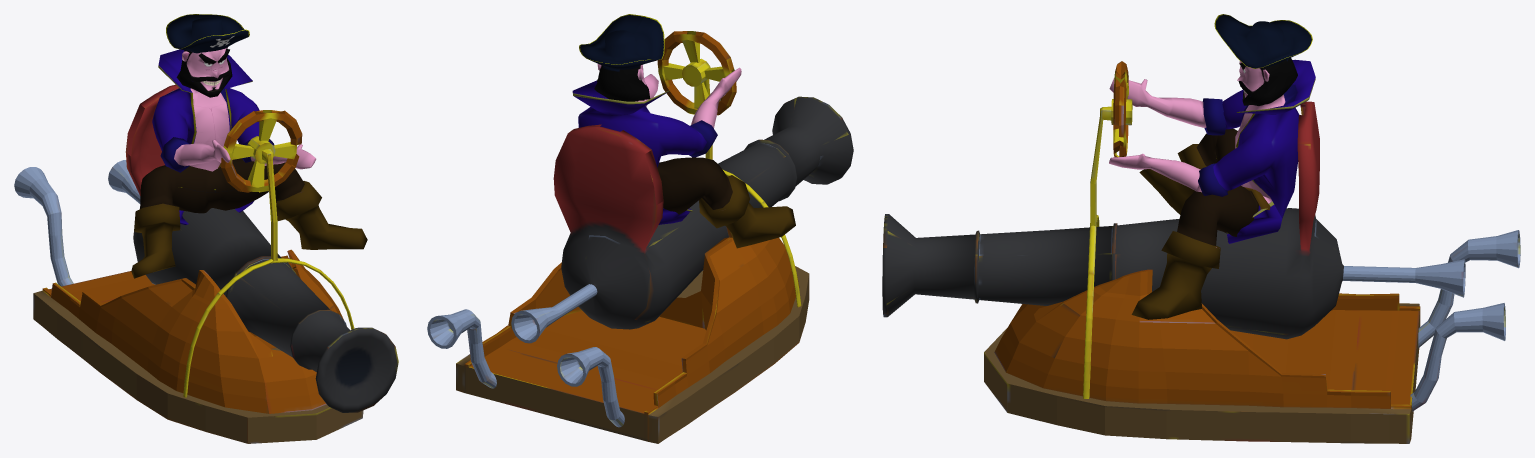
File: pirataGiroDER_000308.obj
3 renders of one model, left to right at view 1: azimuth 30°, elevation 25°; view 2: azimuth 150°, elevation 25°; view 3: azimuth 270°, elevation 25°, orthographic. The views are drawn at different scales.
Parts seen in each view (by area): view 1: carro_pirata, Pirata_PirataH; view 2: carro_pirata, Pirata_PirataH; view 3: carro_pirata, Pirata_PirataH.
Part boxes in pixels (x1=…): carro_pirata: x1=14, y1=84, x2=398, y2=443; Pirata_PirataH: x1=131, y1=14, x2=367, y2=278; carro_pirata: x1=427, y1=31, x2=853, y2=443; Pirata_PirataH: x1=572, y1=14, x2=795, y2=248; carro_pirata: x1=882, y1=61, x2=1520, y2=443; Pirata_PirataH: x1=1109, y1=14, x2=1315, y2=319.
Size of the model in its own units: 5.65 by 7.69 by 12.1.
Materials: 2 (2 with a texture image).
